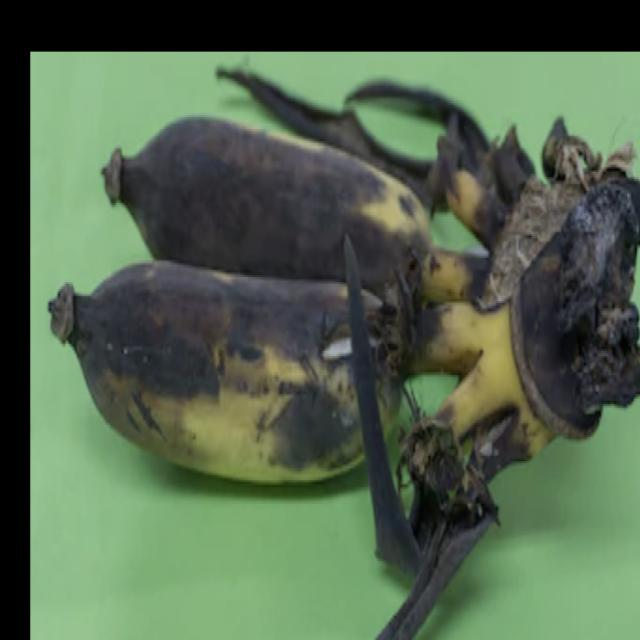banana: (53, 110, 563, 565)
